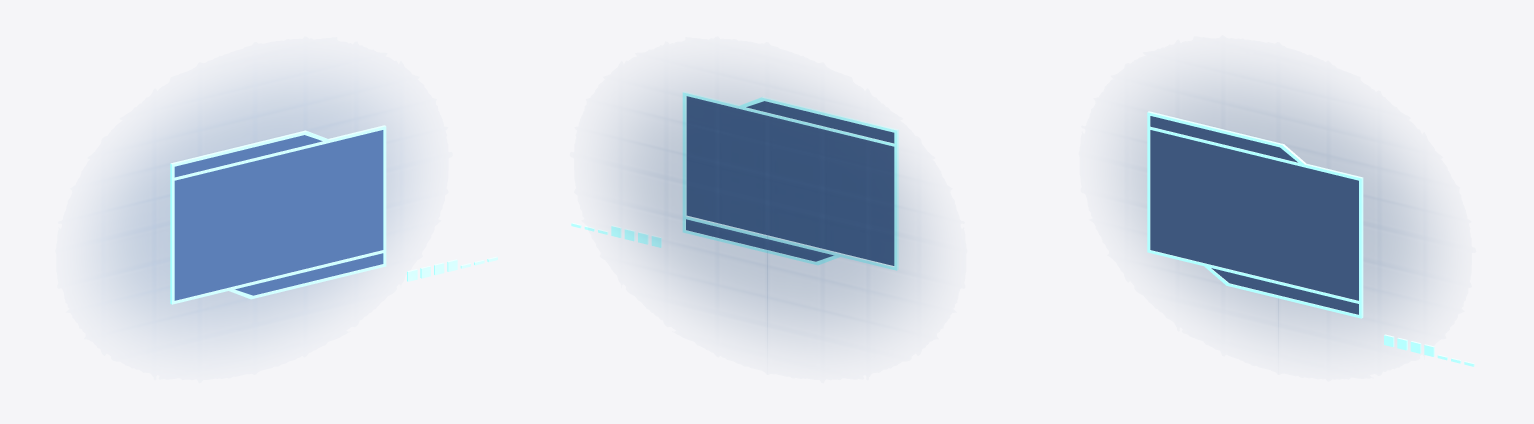
The model's file is sci-fi-screen-transformed.glb.
3 renders of one model, left to right at view 1: azimuth 30°, elevation 25°; view 2: azimuth 150°, elevation 25°; view 3: azimuth 330°, elevation 25°, orthographic.
Visible parts, largest first — view 1: pCube19_monter_MTL_0, BG_BG_MTL_0, pCube1_TV_MTL_0; view 2: BG_BG_MTL_0, pCube19_monter_MTL_0, pCube1_TV_MTL_0; view 3: pCube19_monter_MTL_0, BG_BG_MTL_0, pCube1_TV_MTL_0.
Part boxes in pixels (x1,y1,x2,y2): pCube19_monter_MTL_0: (174, 130, 383, 300); BG_BG_MTL_0: (100, 82, 407, 339); pCube1_TV_MTL_0: (170, 125, 386, 304); BG_BG_MTL_0: (615, 82, 922, 340); pCube19_monter_MTL_0: (686, 96, 894, 265); pCube1_TV_MTL_0: (682, 91, 898, 270); pCube19_monter_MTL_0: (1150, 116, 1358, 314); BG_BG_MTL_0: (1123, 81, 1430, 340); pCube1_TV_MTL_0: (1147, 111, 1363, 318).
Size of the model in its own units: 0.36 by 0.27 by 0.031.
Materials: 3 (2 with a texture image).
